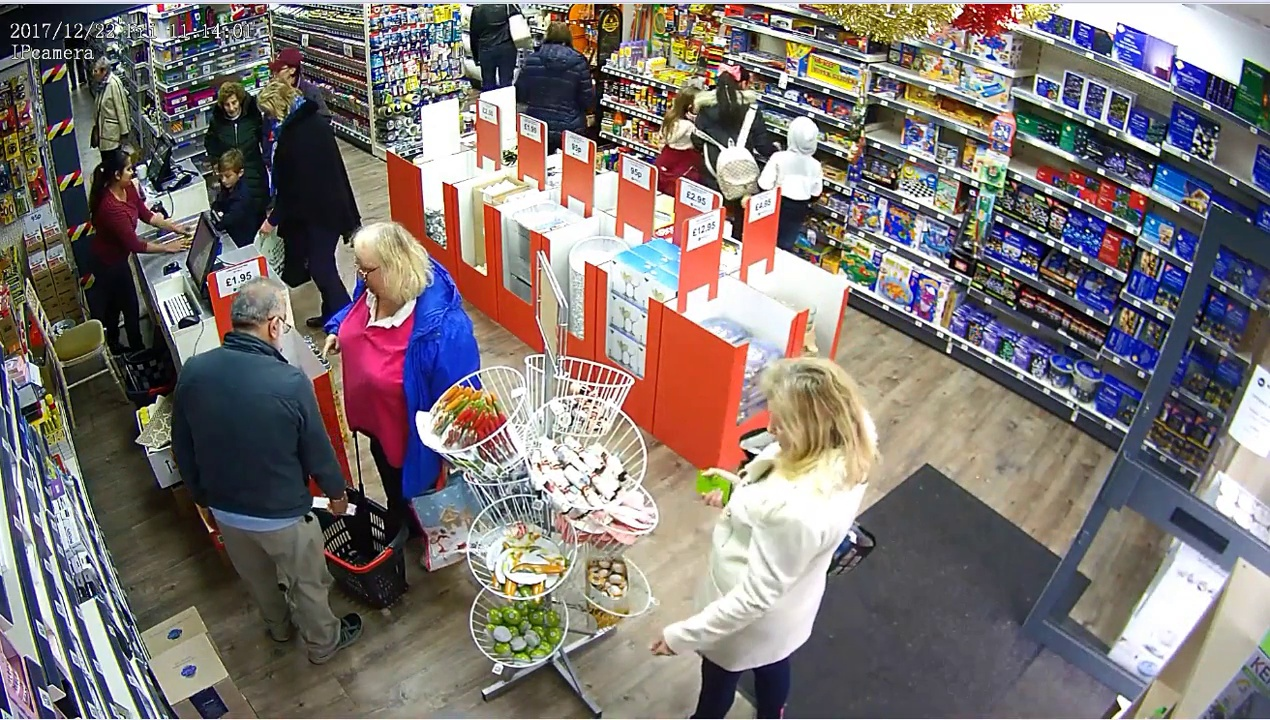face: (115, 157, 141, 187), (222, 90, 241, 118), (216, 165, 237, 190)
